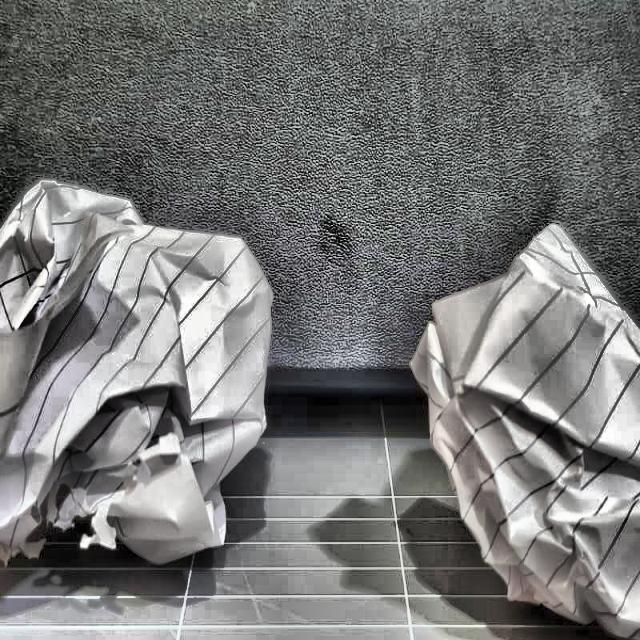paper: (0, 165, 278, 583), (405, 216, 640, 640)
